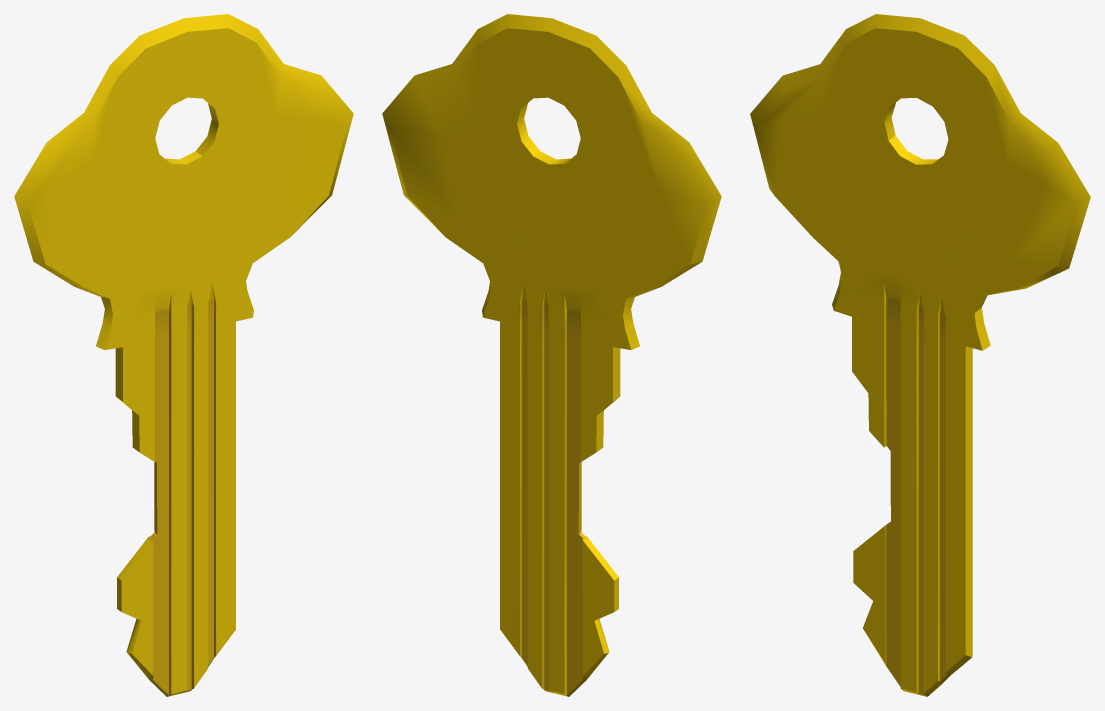
File: key.fbx
3 renders of one model, left to right at view 1: azimuth 30°, elevation 25°; view 2: azimuth 150°, elevation 25°; view 3: azimuth 330°, elevation 25°, orthographic.
Parts seen in each view (by area): view 1: key; view 2: key; view 3: key.
Part boxes in pixels (<box>): key: <box>14,14,353,696</box>; key: <box>382,14,721,696</box>; key: <box>750,14,1090,696</box>.
Size of the model in its own units: 0.0269 by 0.051 by 0.000969.
1 material, 1 textured.
